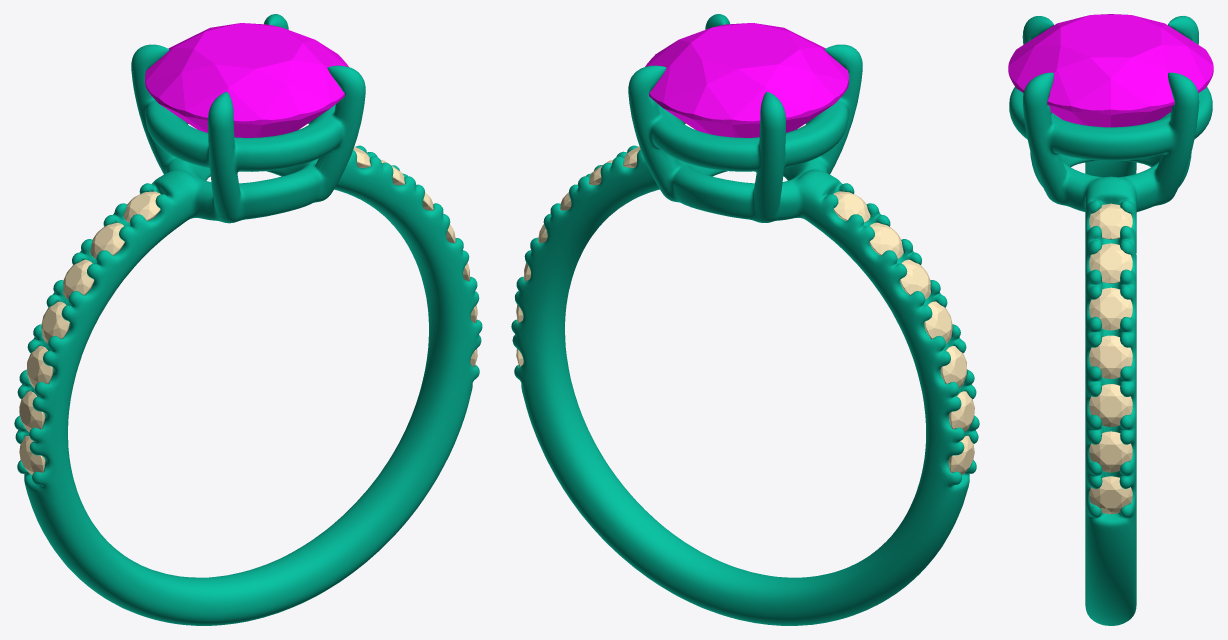
File: BE1D437_RD_200ct_RENDER.glb
The picture shows the model from 3 angles, left to right: view 1: azimuth 30°, elevation 25°; view 2: azimuth 150°, elevation 25°; view 3: azimuth 270°, elevation 25°; orthographic projection.
Visible parts, largest first — view 1: Metal 01, CS_Diamond_Round, Diamond_Round_Gem_SH.004, Diamond_Round_Gem_SH.005, Diamond_Round_Gem_SH.003, Diamond_Round_Gem_SH.006, Diamond_Round_Gem_SH.002, Diamond_Round_Gem_SH.001; view 2: Metal 01, CS_Diamond_Round, Diamond_Round_Gem_SH.005, Diamond_Round_Gem_SH.004, Diamond_Round_Gem_SH.003, Diamond_Round_Gem_SH.006, Diamond_Round_Gem_SH.002, Diamond_Round_Gem_SH.001; view 3: Metal 01, CS_Diamond_Round, Diamond_Round_Gem_SH.010, Diamond_Round_Gem_SH.009, Diamond_Round_Gem_SH.011, Diamond_Round_Gem_SH.008, Diamond_Round_Gem_SH.012, Diamond_Round_Gem_SH.007, Diamond_Round_Gem_SH.013.
Boxes of the visible parts, x1,y1,x2,y2 form: Metal 01: (14, 14, 482, 625); CS_Diamond_Round: (145, 23, 348, 137); Diamond_Round_Gem_SH.004: (63, 259, 93, 299); Diamond_Round_Gem_SH.005: (90, 222, 124, 258); Diamond_Round_Gem_SH.003: (41, 301, 69, 343); Diamond_Round_Gem_SH.006: (123, 191, 160, 222); Diamond_Round_Gem_SH.002: (27, 346, 53, 388); Diamond_Round_Gem_SH.001: (19, 391, 45, 432); Metal 01: (511, 14, 979, 625); CS_Diamond_Round: (645, 23, 848, 137); Diamond_Round_Gem_SH.005: (869, 222, 903, 258); Diamond_Round_Gem_SH.004: (900, 259, 930, 299); Diamond_Round_Gem_SH.003: (924, 301, 952, 343); Diamond_Round_Gem_SH.006: (833, 191, 870, 222); Diamond_Round_Gem_SH.002: (940, 346, 966, 388); Diamond_Round_Gem_SH.001: (949, 391, 974, 432); Metal 01: (1009, 16, 1212, 625); CS_Diamond_Round: (1008, 14, 1213, 127); Diamond_Round_Gem_SH.010: (1089, 335, 1132, 378); Diamond_Round_Gem_SH.009: (1089, 384, 1132, 426); Diamond_Round_Gem_SH.011: (1089, 287, 1132, 330); Diamond_Round_Gem_SH.008: (1089, 431, 1132, 472); Diamond_Round_Gem_SH.012: (1089, 243, 1132, 283); Diamond_Round_Gem_SH.007: (1089, 476, 1132, 514); Diamond_Round_Gem_SH.013: (1089, 203, 1132, 239).
Bounding box in the file's own units: 20.14 × 24.34 × 8.
